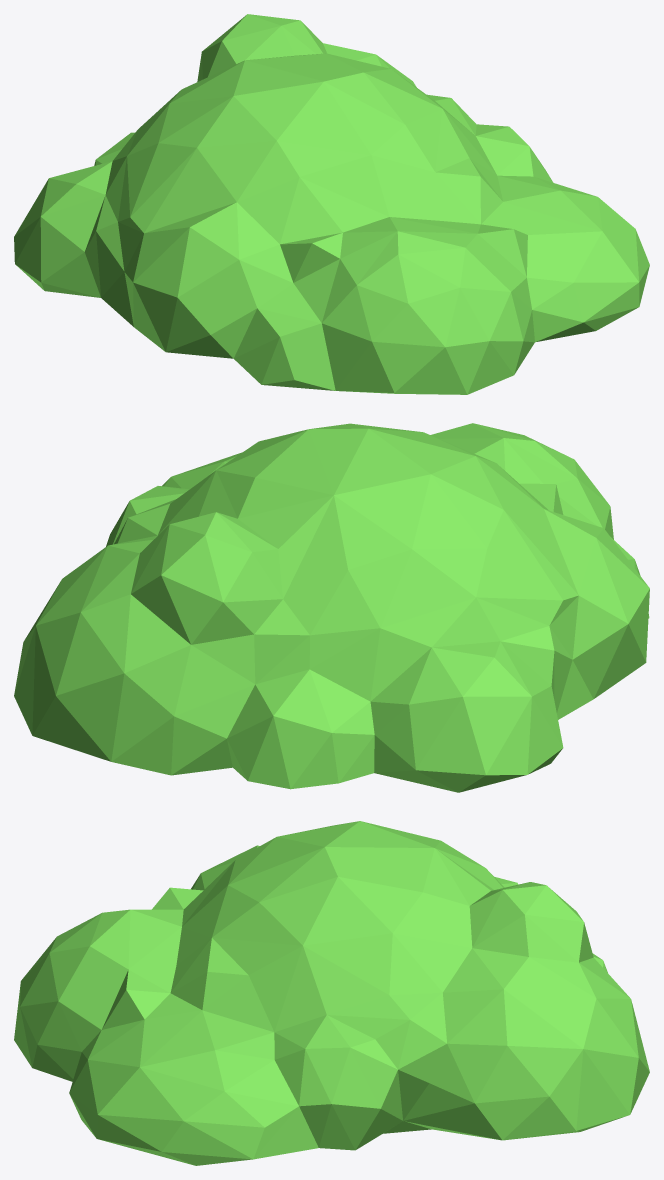
Rendered from Bush0.fbx.
3 renders of one model, top to bottom at view 1: azimuth 30°, elevation 25°; view 2: azimuth 150°, elevation 25°; view 3: azimuth 270°, elevation 25°, orthographic. The views are drawn at different scales.
Visible parts, largest first — view 1: Bush0; view 2: Bush0; view 3: Bush0.
Boxes of the visible parts, bbox=[...] form: Bush0: bbox=[14, 14, 649, 394]; Bush0: bbox=[14, 423, 649, 792]; Bush0: bbox=[14, 821, 649, 1165].
Bounding box in the file's own units: 108 × 45.38 × 123.
